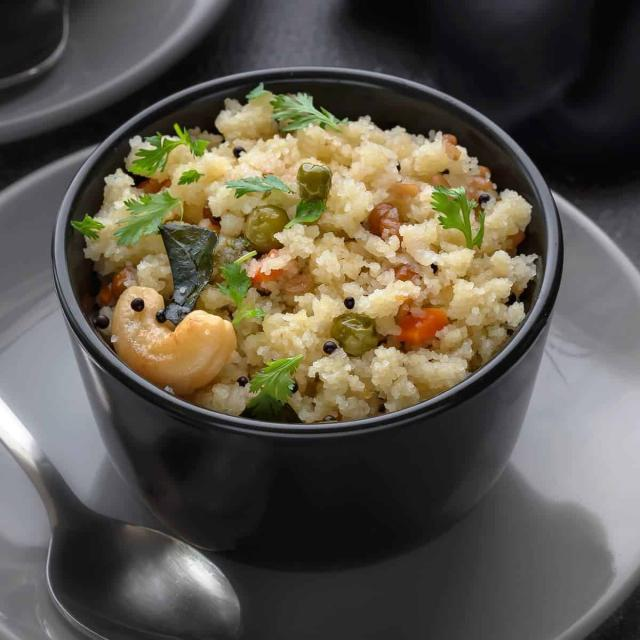UPMA: (71, 86, 539, 425)
